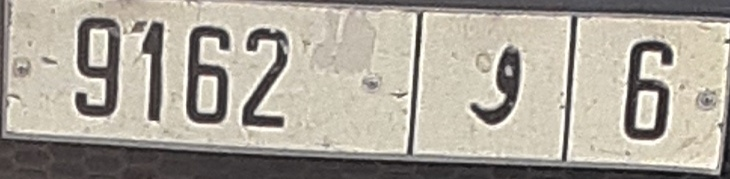1: (138, 17, 167, 124)
2: (238, 26, 291, 131)
6: (621, 37, 675, 142), (182, 22, 232, 126)
9: (74, 12, 122, 120)
waw: (468, 44, 524, 128)
